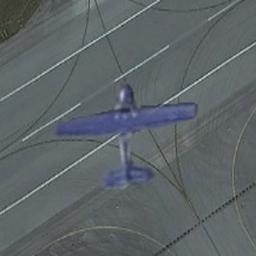Airplane: (52, 68, 204, 198)
